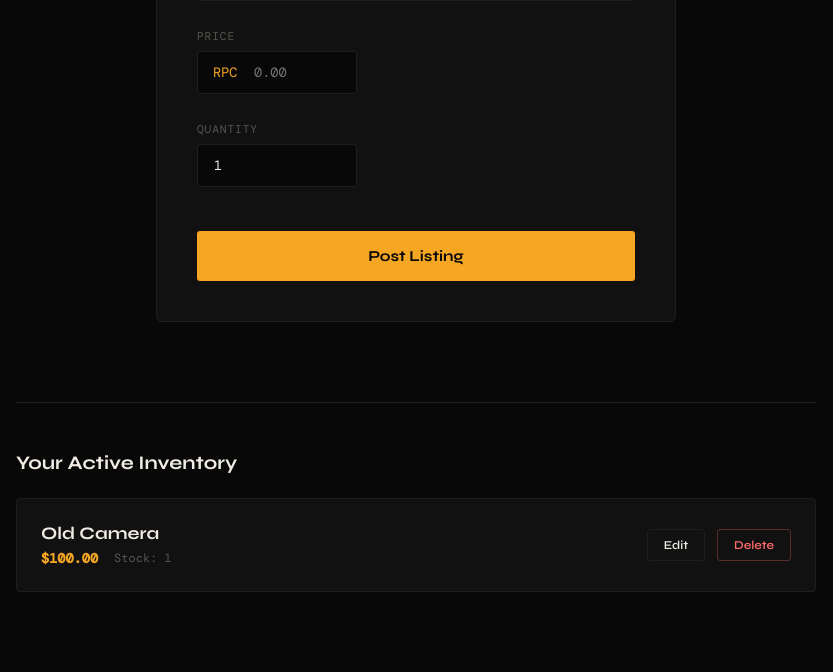
Test: SellPage › loads item into form on Edit click, and sends a PUT request
(page scrolled)
Click the button "Edit".
click(676, 545)  # box top-left (647, 529), bottom-right (705, 561)
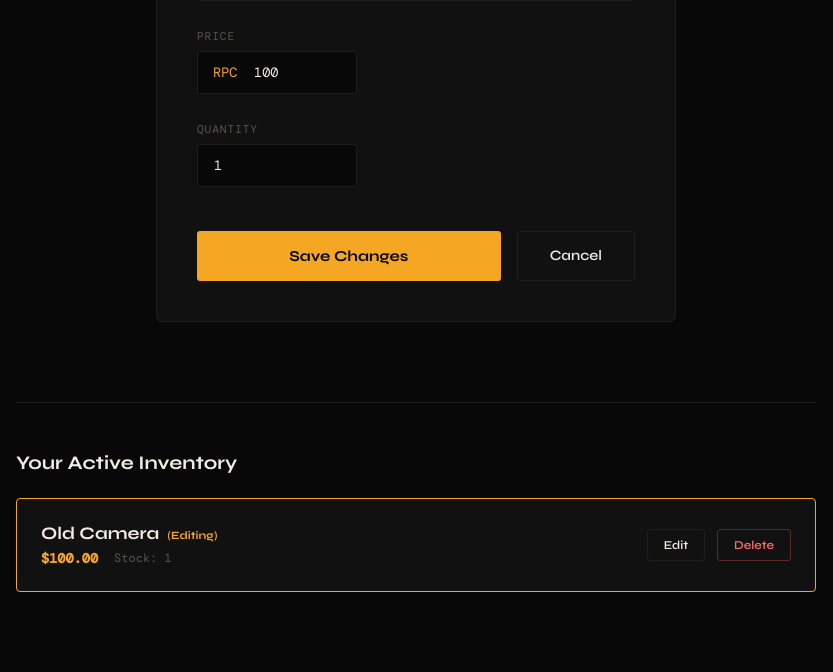
Check: the number field with placeholder "0.00" holds "100"
Replace the text in the number field with placeholder "0.00" with "80" at (277, 72), box top-left (197, 51), bottom-right (357, 94)
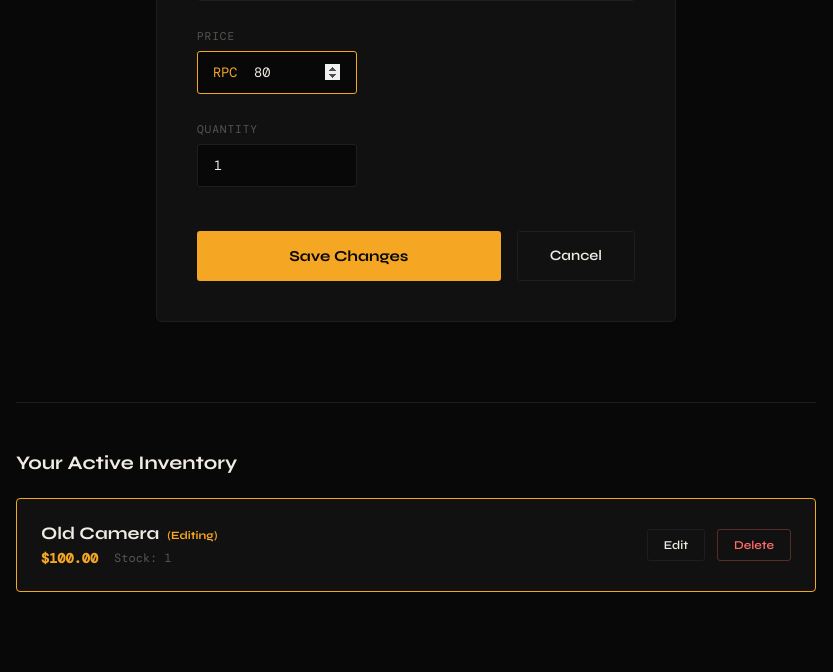
Click the button "Save Changes".
click(349, 256)  # box top-left (197, 231), bottom-right (501, 281)
(page scrolled)
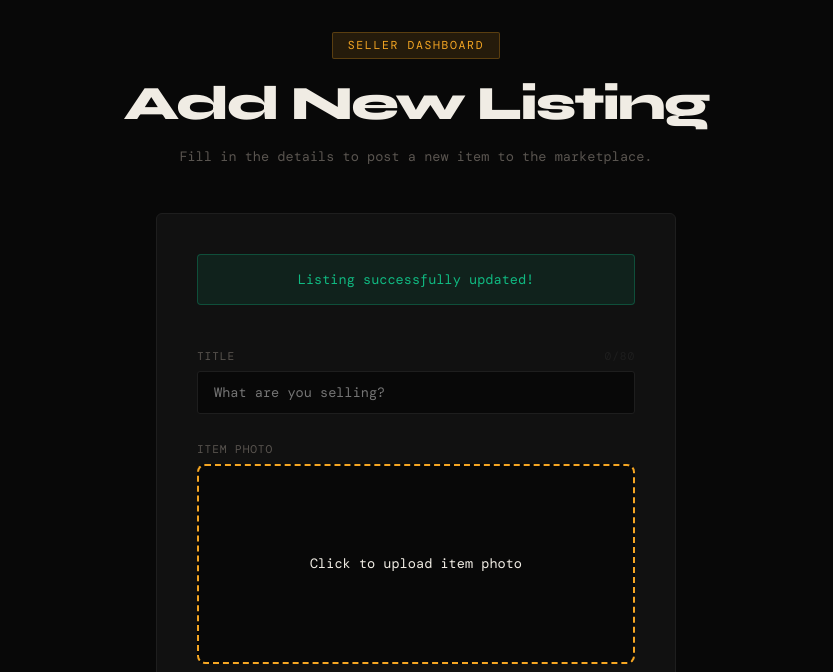
Check: the text "Listing successfully updated!" is shown, box top-left (197, 254), bottom-right (635, 305)
